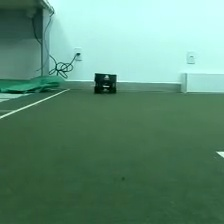goal: (179, 70, 224, 96)
robot: (92, 71, 118, 94)
